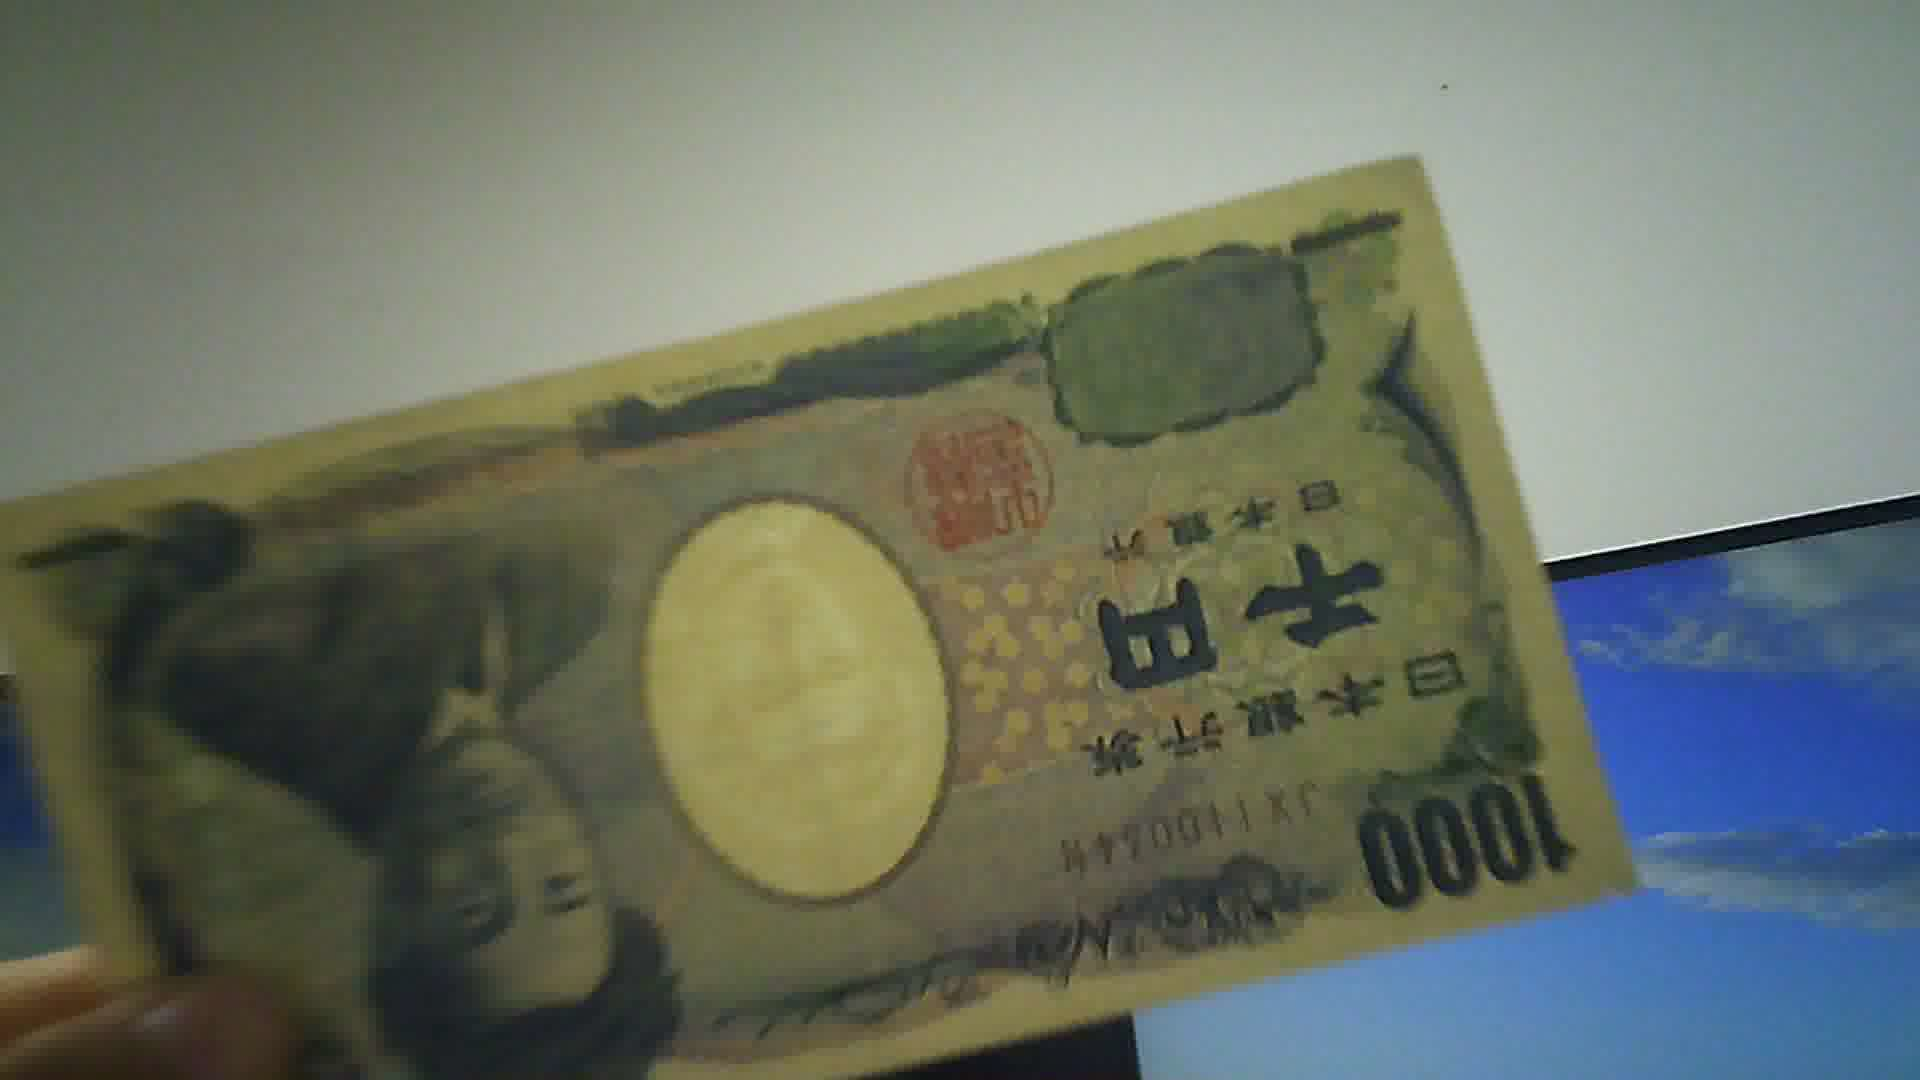1,000 Yen: (11, 156, 1611, 1079)
